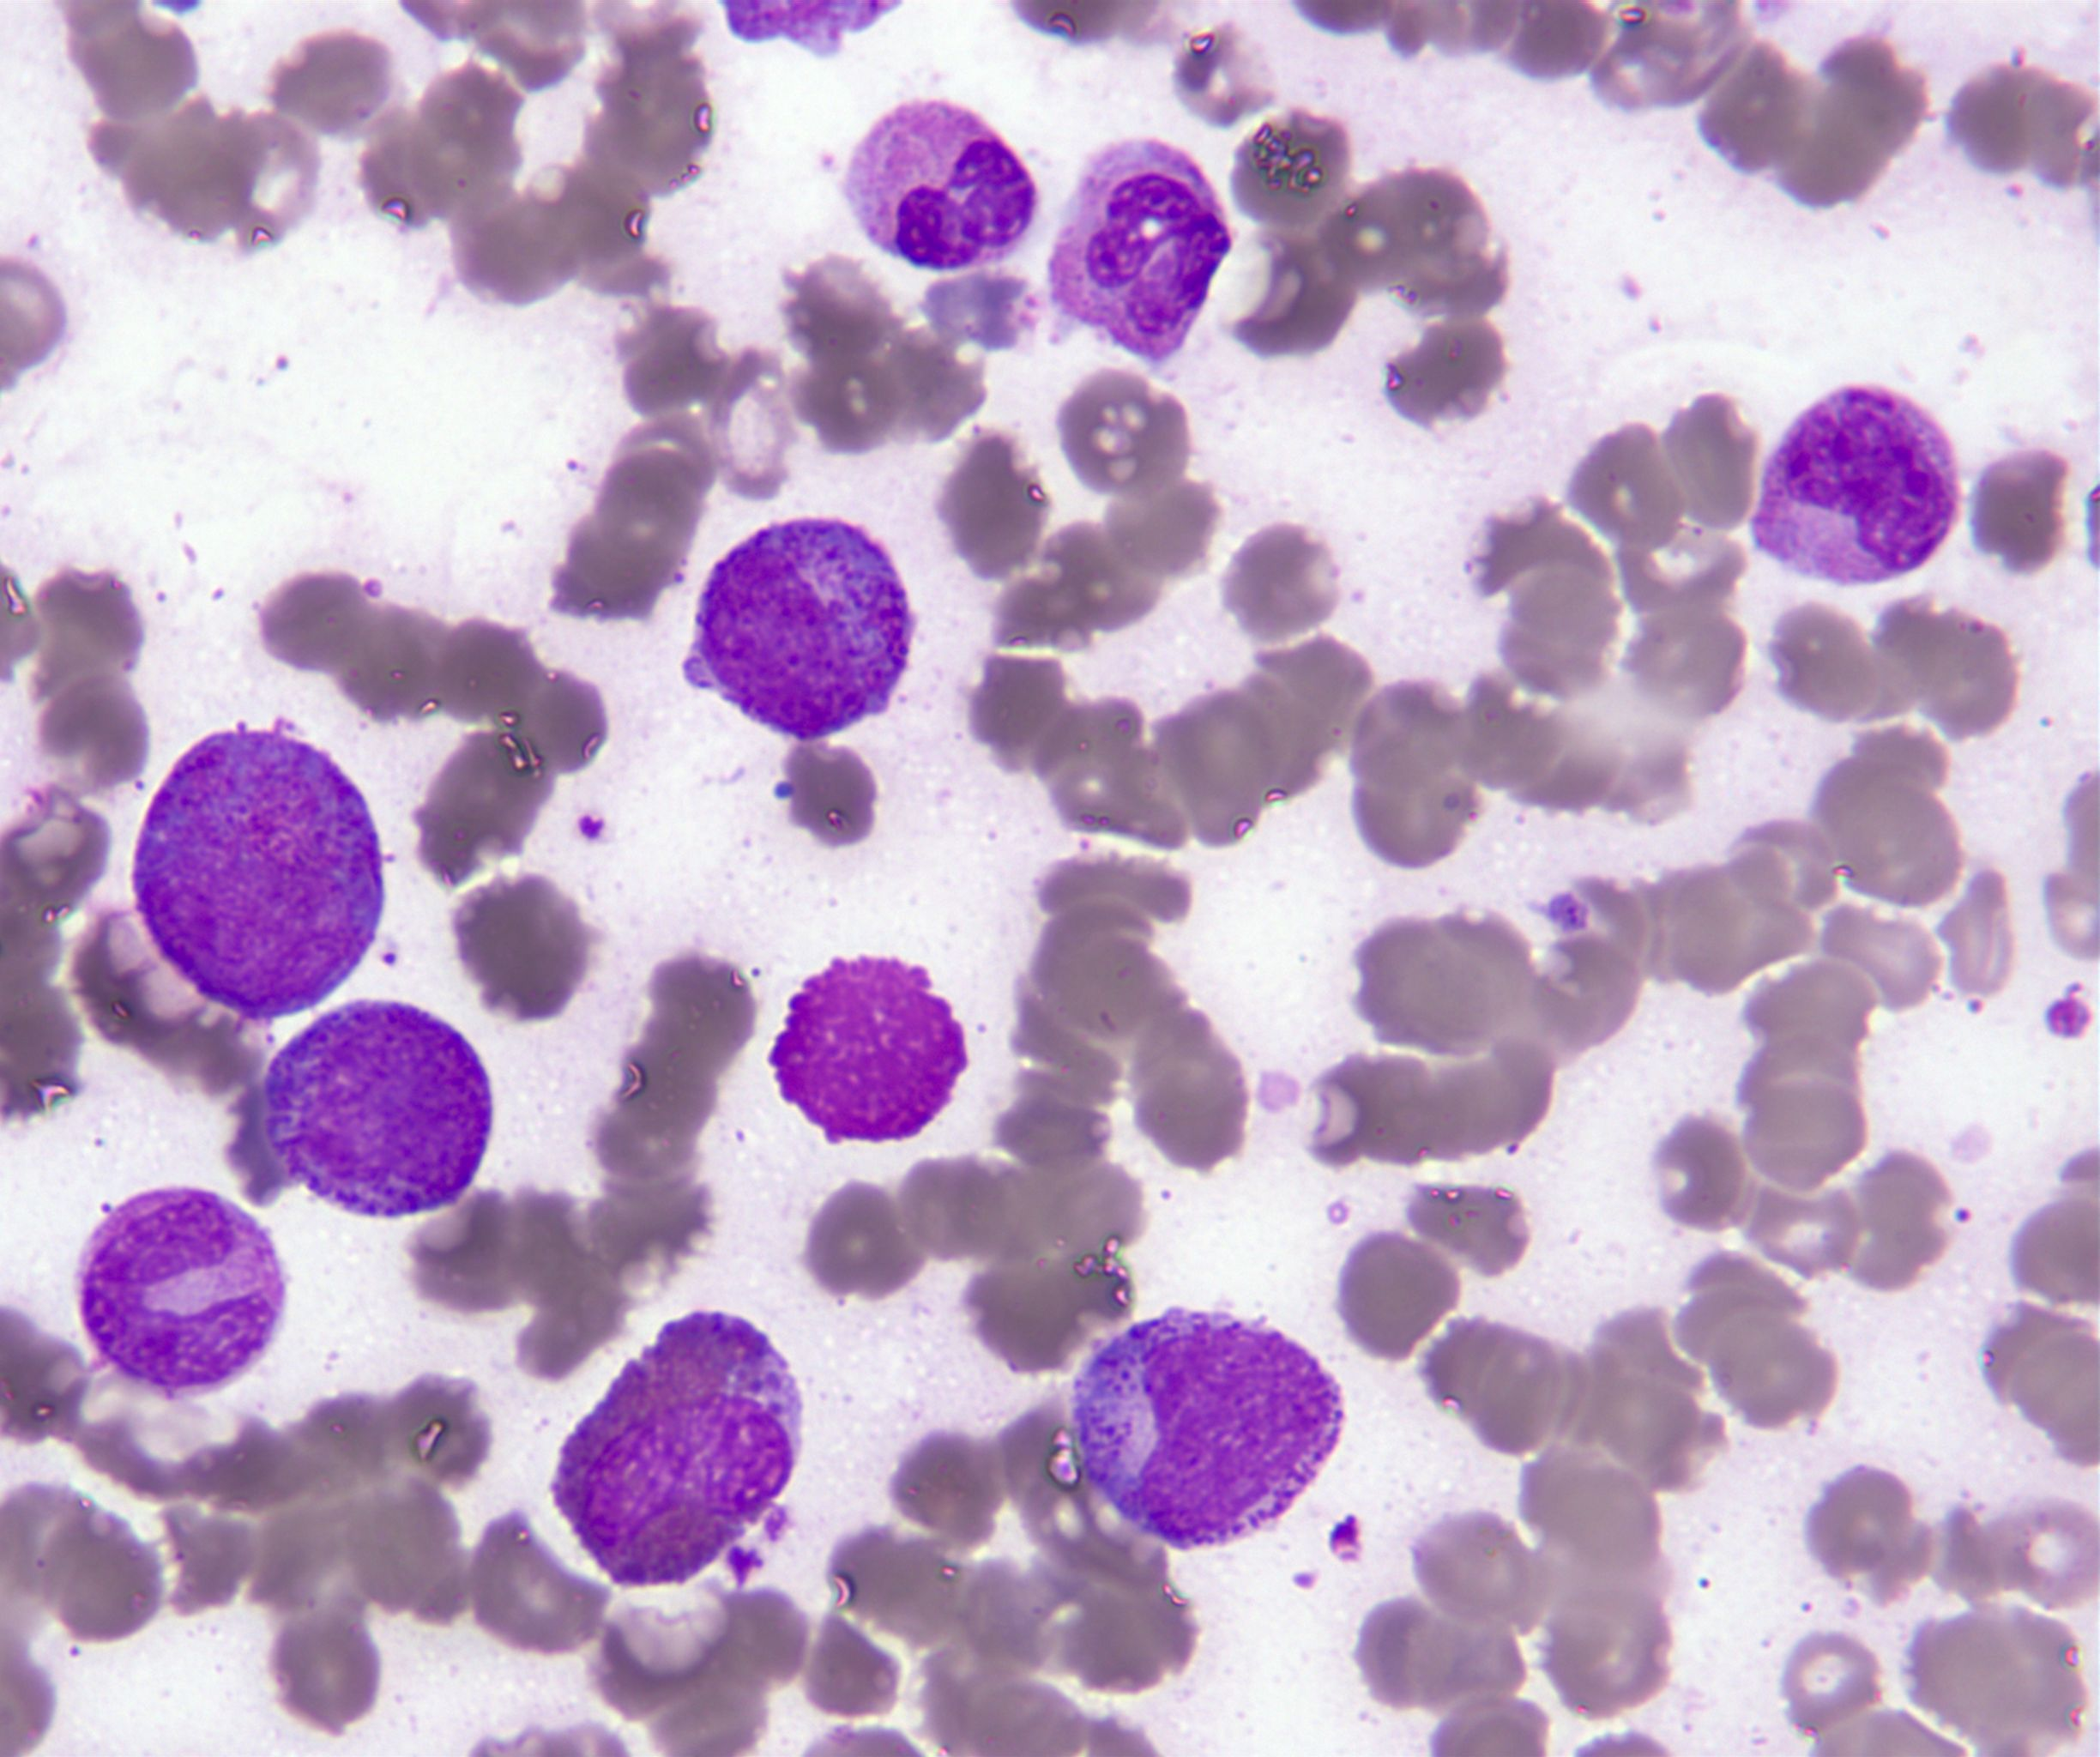2: (134, 729, 384, 1019), (263, 1000, 494, 1218)
3: (1074, 1305, 1343, 1551), (682, 522, 912, 740)
42: (77, 1188, 284, 1396), (1749, 384, 1964, 585)
6: (1048, 136, 1230, 361), (842, 101, 1040, 272)
E2: (551, 1312, 802, 1588)
x: (771, 956, 968, 1146)
